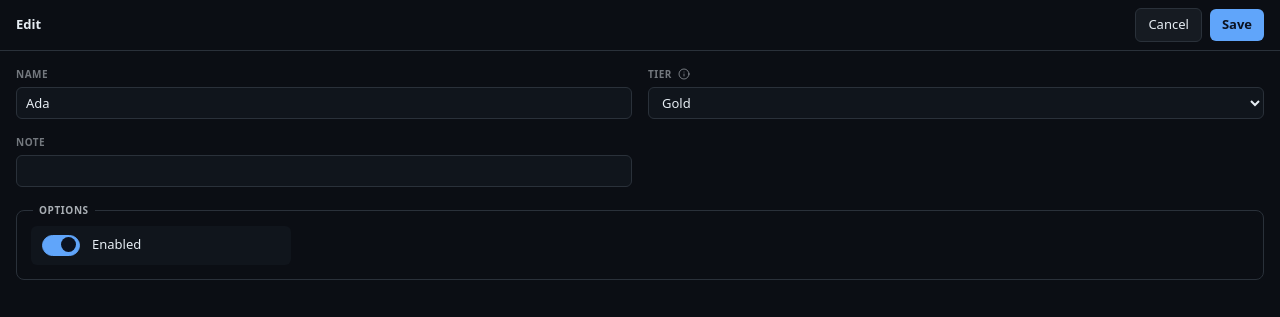
Test: RecordForm — submit and cancel › names the invalid field on submit rather than sending it
The image size is (1280, 317).
Clear the field labelled "Name" at (324, 102), box x1=16 y1=86 x2=632 y2=118
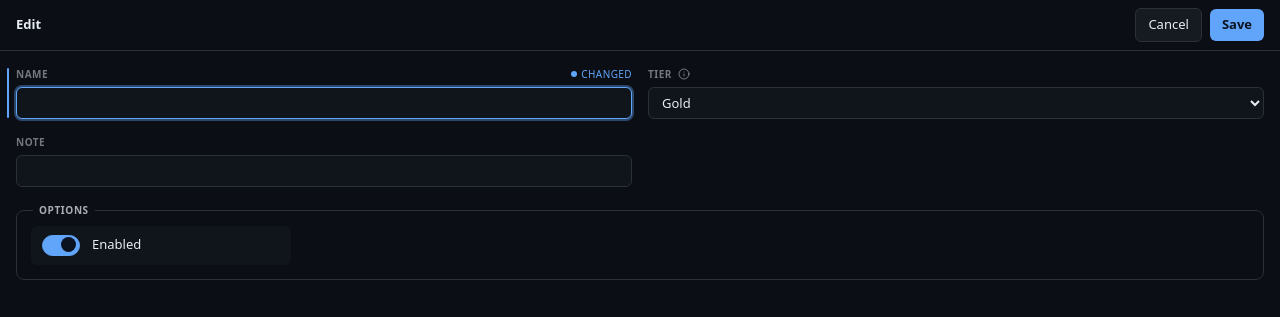
Click the button "Save" at (1237, 25), box x1=1210 y1=9 x2=1264 y2=40
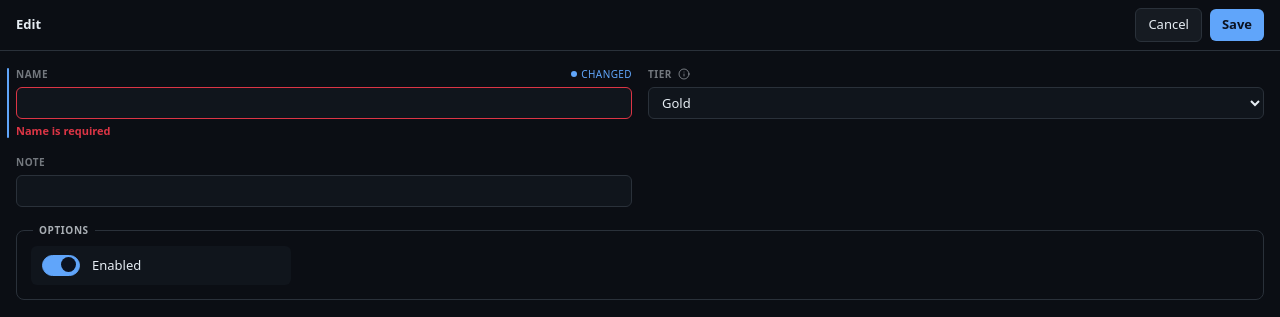
Expected: the text "Name is required" is shown, x1=16 y1=122 x2=110 y2=138
